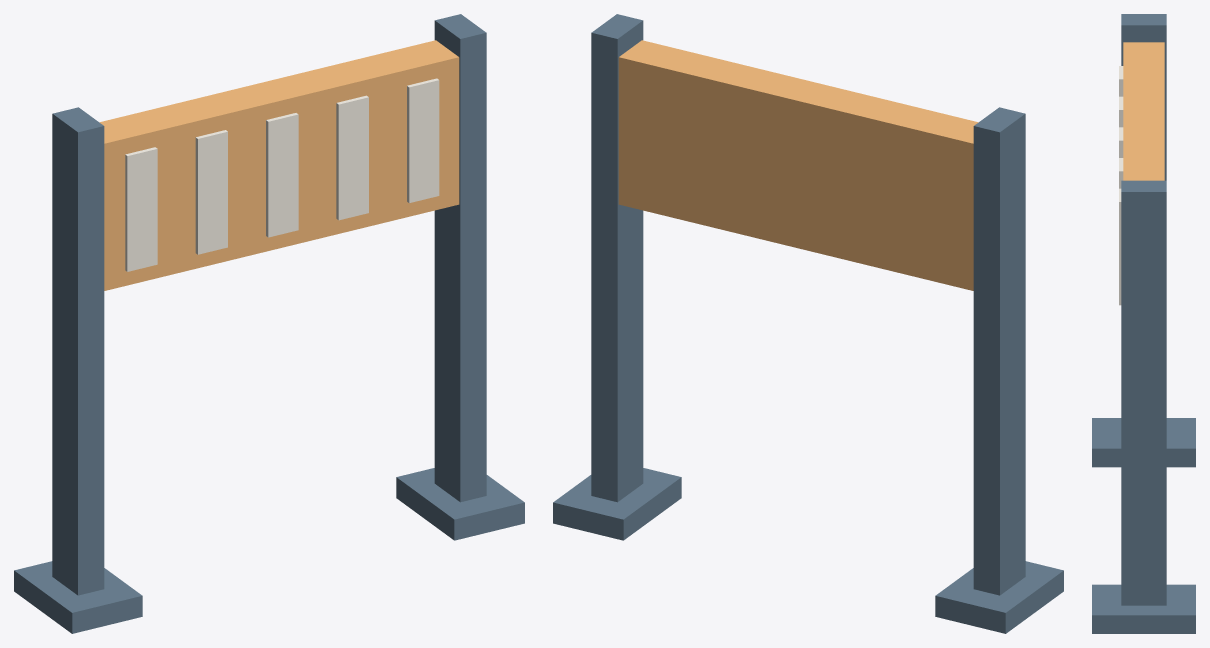
Rendered from 27_overhead_sign.glb.
3 renders of one model, left to right at view 1: azimuth 30°, elevation 25°; view 2: azimuth 150°, elevation 25°; view 3: azimuth 270°, elevation 25°, orthographic. The views are drawn at different scales.
Visible parts, largest first — view 1: 27_overhead_sign; view 2: 27_overhead_sign; view 3: 27_overhead_sign.
Boxes of the visible parts, left/top/right/bottom form: 27_overhead_sign: left=14, top=14, right=524, bottom=633; 27_overhead_sign: left=553, top=14, right=1063, bottom=633; 27_overhead_sign: left=1092, top=14, right=1195, bottom=633.
Size of the model in its own units: 2.25 by 2.3 by 0.5.
